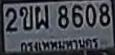0: (85, 3, 95, 26)
2: (5, 7, 16, 31)
6: (71, 3, 82, 27)
8: (58, 4, 68, 28), (99, 2, 109, 25)
A02: (19, 5, 32, 30)
A28: (34, 4, 48, 28)
BKK: (18, 36, 100, 54)
